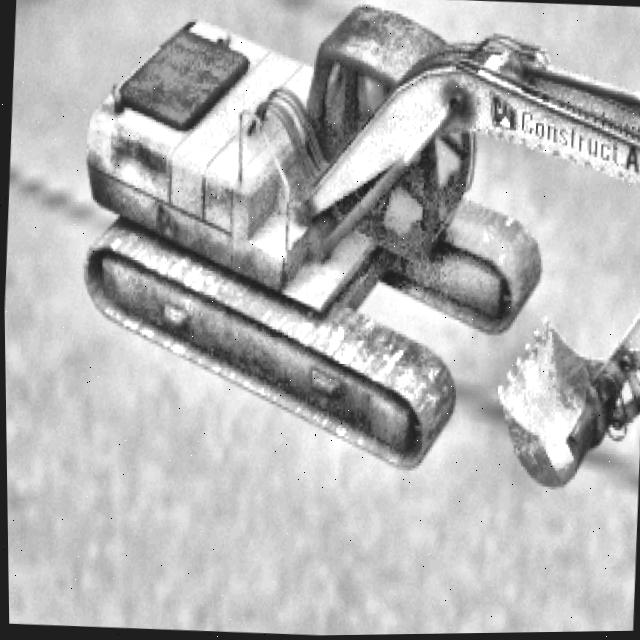excavator: (66, 0, 640, 495)
